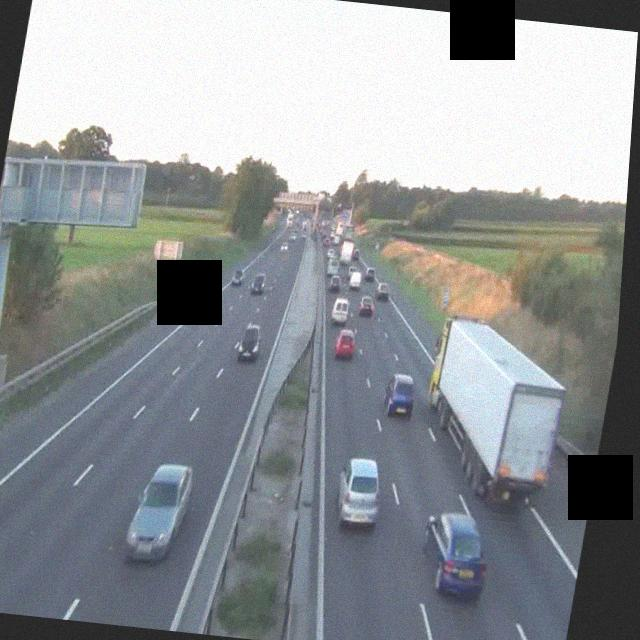car: (122, 461, 196, 564), (414, 510, 496, 597), (332, 456, 386, 530), (380, 370, 419, 417), (235, 322, 264, 361), (333, 328, 358, 360), (330, 298, 351, 324), (250, 272, 267, 294), (358, 294, 375, 316), (347, 269, 364, 288), (229, 267, 244, 286), (327, 273, 342, 292), (375, 282, 390, 298), (364, 266, 377, 282), (326, 258, 339, 274), (280, 240, 290, 252)
truck: (409, 316, 577, 509), (338, 238, 356, 264)
